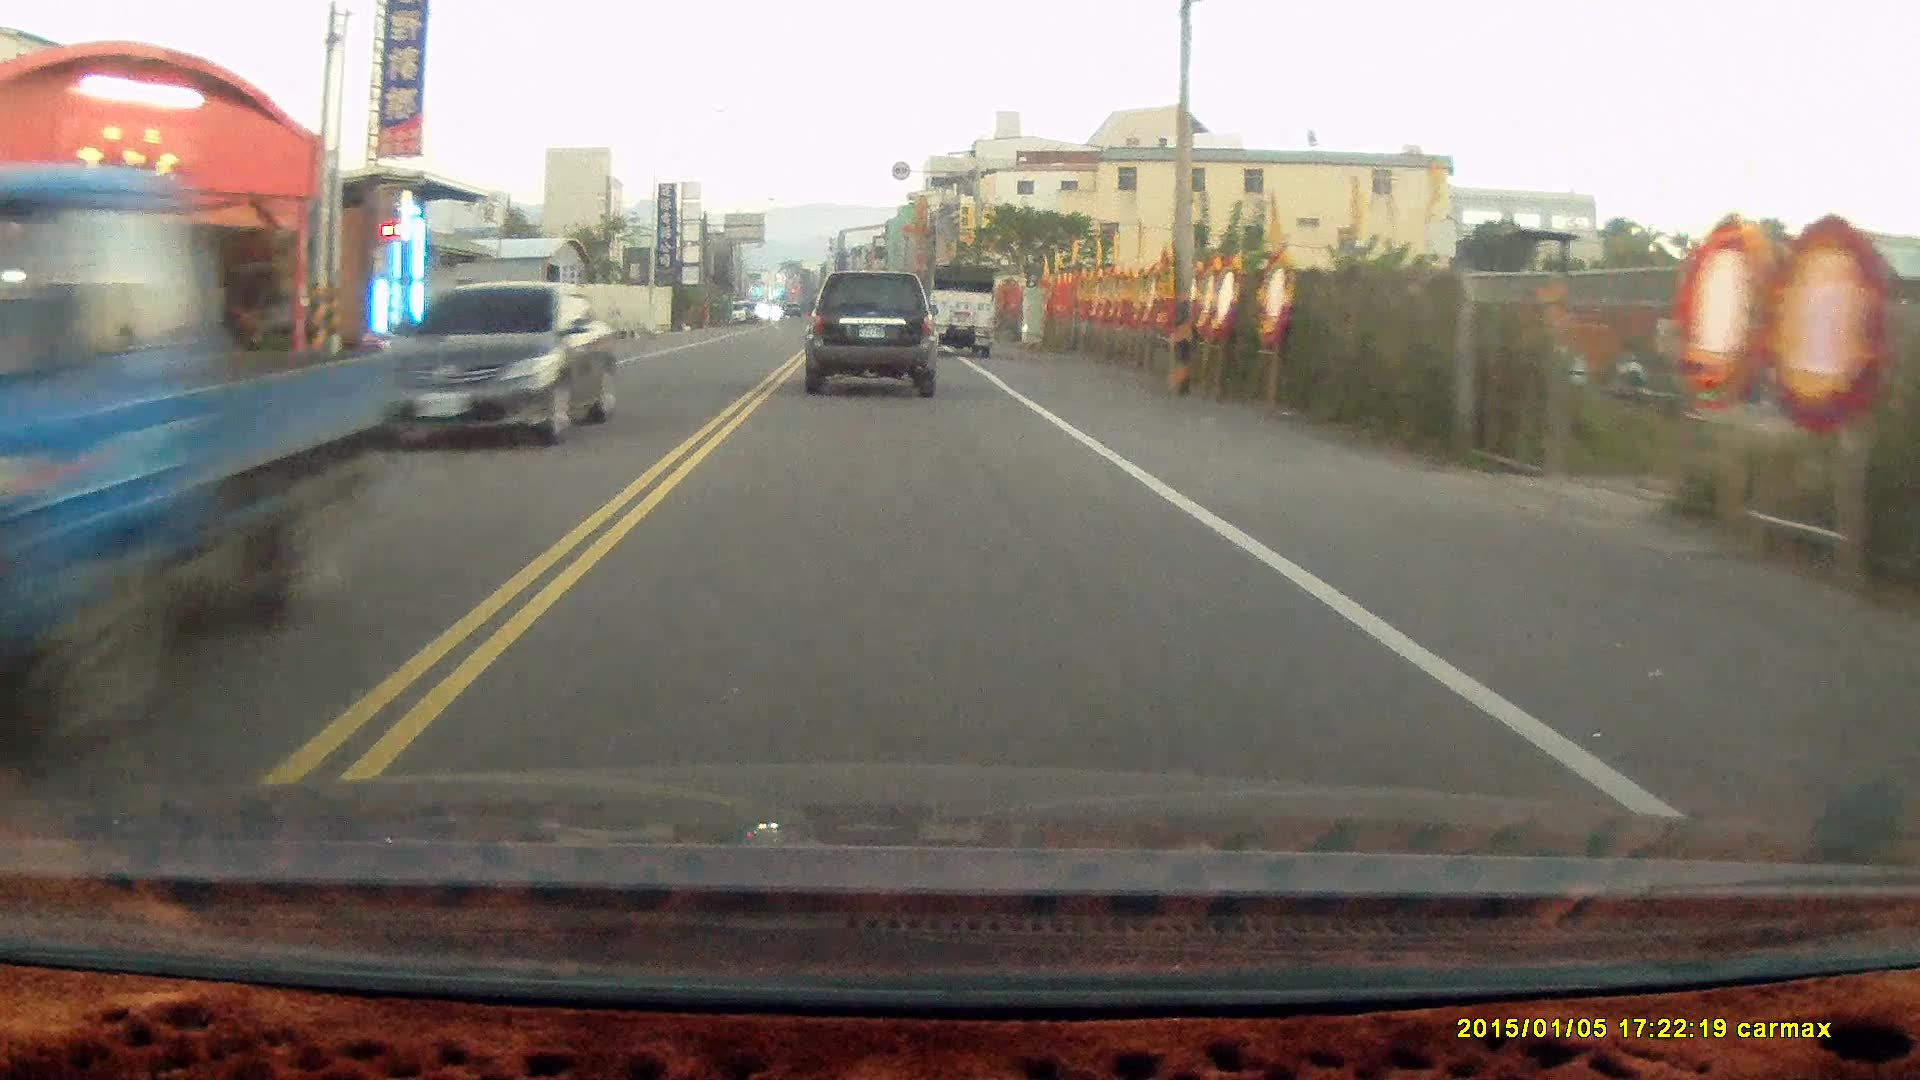vehicle: (1, 170, 421, 735), (384, 281, 622, 452), (802, 272, 938, 400), (927, 261, 1001, 355)
